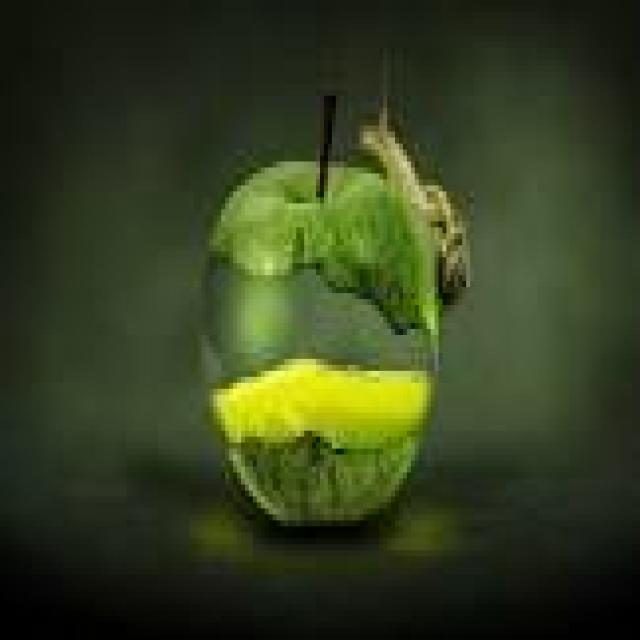apple: (209, 114, 462, 520)
